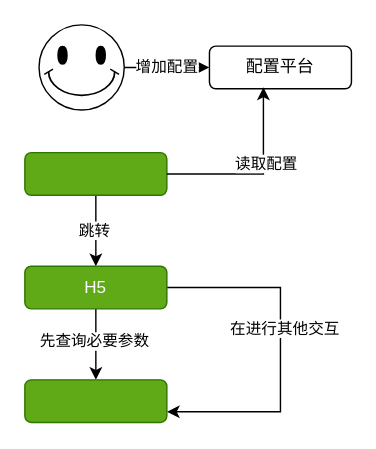
Some shapes in this 376 by 449 pixel diagram are drawn without their labels. The centre of each missing label's shape, as x and y in pixels:
app: pixel 95 173
后端: pixel 95 400
